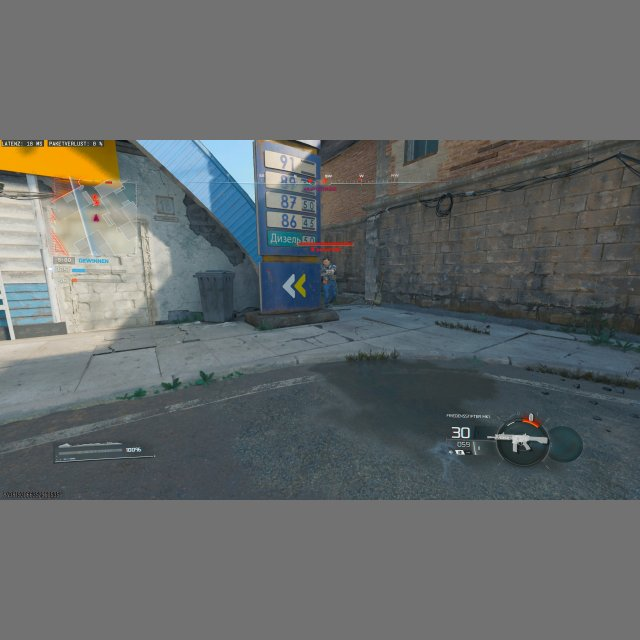head: (323, 257, 330, 266)
player: (319, 256, 338, 309)
